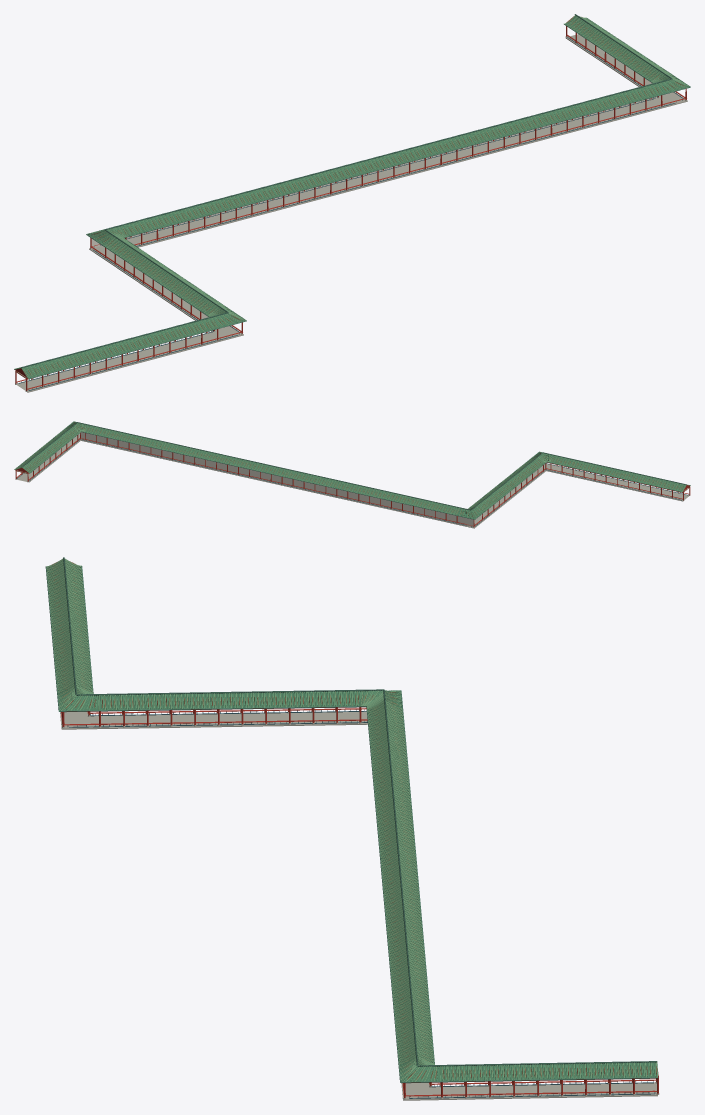
File: detail.glb
The picture shows the model from 3 angles, top to bottom: view 1: azimuth 30°, elevation 25°; view 2: azimuth 150°, elevation 25°; view 3: azimuth 270°, elevation 25°; orthographic projection. The views are drawn at different scales.
Parts seen in each view (by area): view 1: Corridor roof.001, Corridor stone.001, Corridor tile0.001, Corridor tile1.001, Corridor tile2.001, Corridor red.001, Corridor blue.001, Corridor ridge.001, Corridor beam.001, Corridor edge.001, Corridor plaster.001; view 2: Corridor roof.001, Corridor plaster.001, Corridor tile0.001, Corridor tile2.001, Corridor tile1.001, Corridor stone.001, Corridor red.001, Corridor ridge.001, Corridor edge.001, Corridor blue.001, Corridor beam.001; view 3: Corridor tile0.001, Corridor tile1.001, Corridor tile2.001, Corridor roof.001, Corridor stone.001, Corridor red.001, Corridor edge.001, Corridor ridge.001, Corridor beam.001, Corridor blue.001.
Boxes of the visible parts, x1=… form: Corridor roof.001: x1=21, y1=16, x2=689, y2=378; Corridor stone.001: x1=15, y1=34, x2=687, y2=392; Corridor tile0.001: x1=15, y1=15, x2=689, y2=378; Corridor tile1.001: x1=16, y1=15, x2=688, y2=377; Corridor tile2.001: x1=17, y1=16, x2=688, y2=377; Corridor red.001: x1=15, y1=16, x2=686, y2=390; Corridor blue.001: x1=17, y1=36, x2=683, y2=390; Corridor ridge.001: x1=21, y1=14, x2=672, y2=367; Corridor beam.001: x1=16, y1=18, x2=684, y2=378; Corridor edge.001: x1=14, y1=18, x2=690, y2=379; Corridor plaster.001: x1=91, y1=96, x2=657, y2=248; Corridor roof.001: x1=15, y1=422, x2=690, y2=519; Corridor plaster.001: x1=80, y1=432, x2=473, y2=526; Corridor tile0.001: x1=15, y1=422, x2=690, y2=518; Corridor tile2.001: x1=15, y1=421, x2=688, y2=518; Corridor tile1.001: x1=14, y1=422, x2=689, y2=518; Corridor stone.001: x1=15, y1=433, x2=690, y2=528; Corridor red.001: x1=15, y1=433, x2=690, y2=526; Corridor ridge.001: x1=21, y1=422, x2=686, y2=510; Corridor edge.001: x1=14, y1=421, x2=690, y2=519; Corridor blue.001: x1=16, y1=439, x2=688, y2=526; Corridor beam.001: x1=16, y1=422, x2=689, y2=516; Corridor tile0.001: x1=46, y1=558, x2=657, y2=1081; Corridor tile1.001: x1=46, y1=559, x2=657, y2=1081; Corridor tile2.001: x1=46, y1=560, x2=653, y2=1081; Corridor roof.001: x1=47, y1=566, x2=657, y2=1081; Corridor stone.001: x1=60, y1=710, x2=659, y2=1100; Corridor red.001: x1=52, y1=561, x2=658, y2=1097; Corridor edge.001: x1=45, y1=566, x2=658, y2=1082; Corridor ridge.001: x1=63, y1=557, x2=657, y2=1066; Corridor beam.001: x1=53, y1=563, x2=658, y2=1079; Corridor blue.001: x1=67, y1=709, x2=655, y2=1098.
Size of the model in its own units: 2.01 by 0.0519 by 1.01.
Materials: 12 (1 with a texture image).
